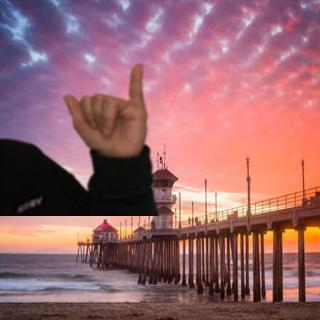HAVE: (55, 59, 161, 160)
